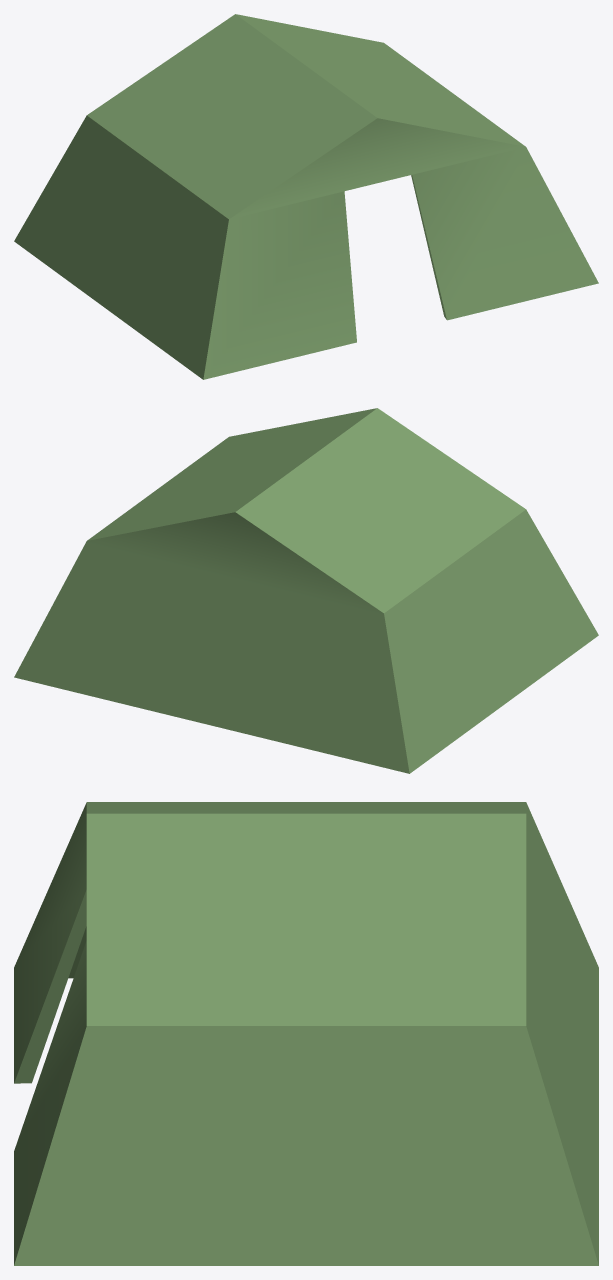
Rendered from Tent_No_Stakes.fbx.
3 renders of one model, top to bottom at view 1: azimuth 30°, elevation 25°; view 2: azimuth 150°, elevation 25°; view 3: azimuth 270°, elevation 25°, orthographic. The views are drawn at different scales.
Parts seen in each view (by area): view 1: Tent; view 2: Tent; view 3: Tent.
Part boxes in pixels (x1,y1,x2,y2): Tent: (14, 14, 598, 379); Tent: (14, 408, 598, 773); Tent: (14, 802, 598, 1265).
Bounding box in the file's own units: 5.3 × 2.53 × 4.39.
